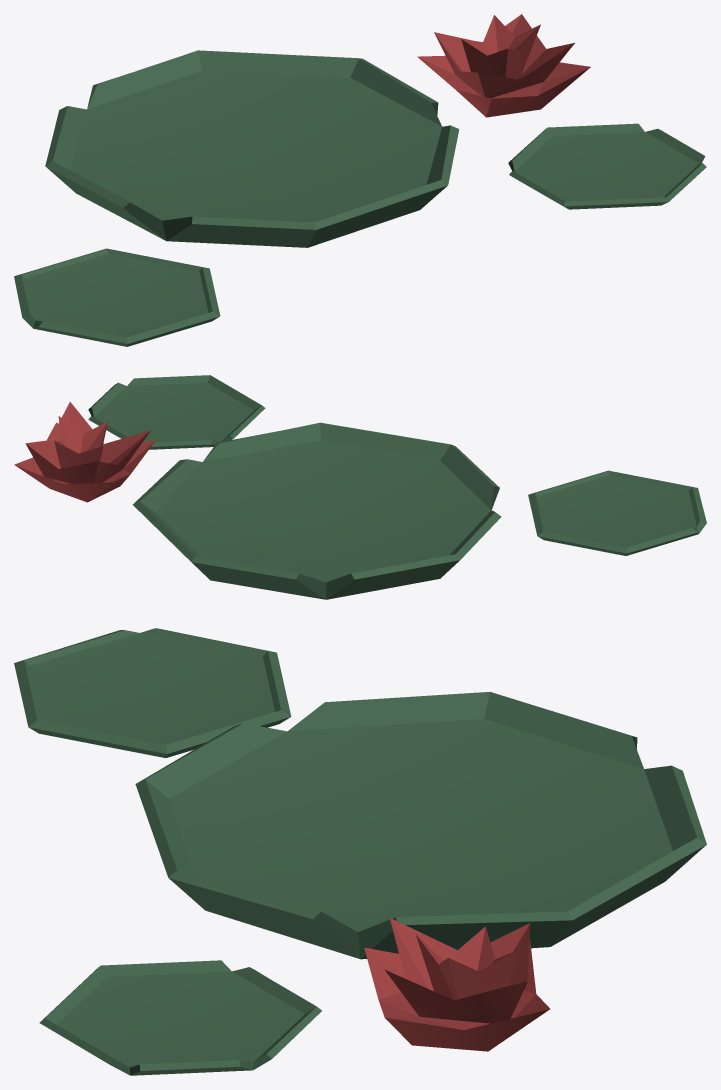
The model's file is LilyB.fbx.
3 renders of one model, top to bottom at view 1: azimuth 30°, elevation 25°; view 2: azimuth 150°, elevation 25°; view 3: azimuth 270°, elevation 25°, orthographic. The views are drawn at different scales.
Visible parts, largest first — view 1: LilyB; view 2: LilyB; view 3: LilyB.
Part boxes in pixels (bbox=[...]): LilyB: bbox=[14, 14, 706, 346]; LilyB: bbox=[14, 375, 706, 599]; LilyB: bbox=[14, 628, 706, 1075].
Size of the model in its own units: 147 by 14.98 by 97.21.
